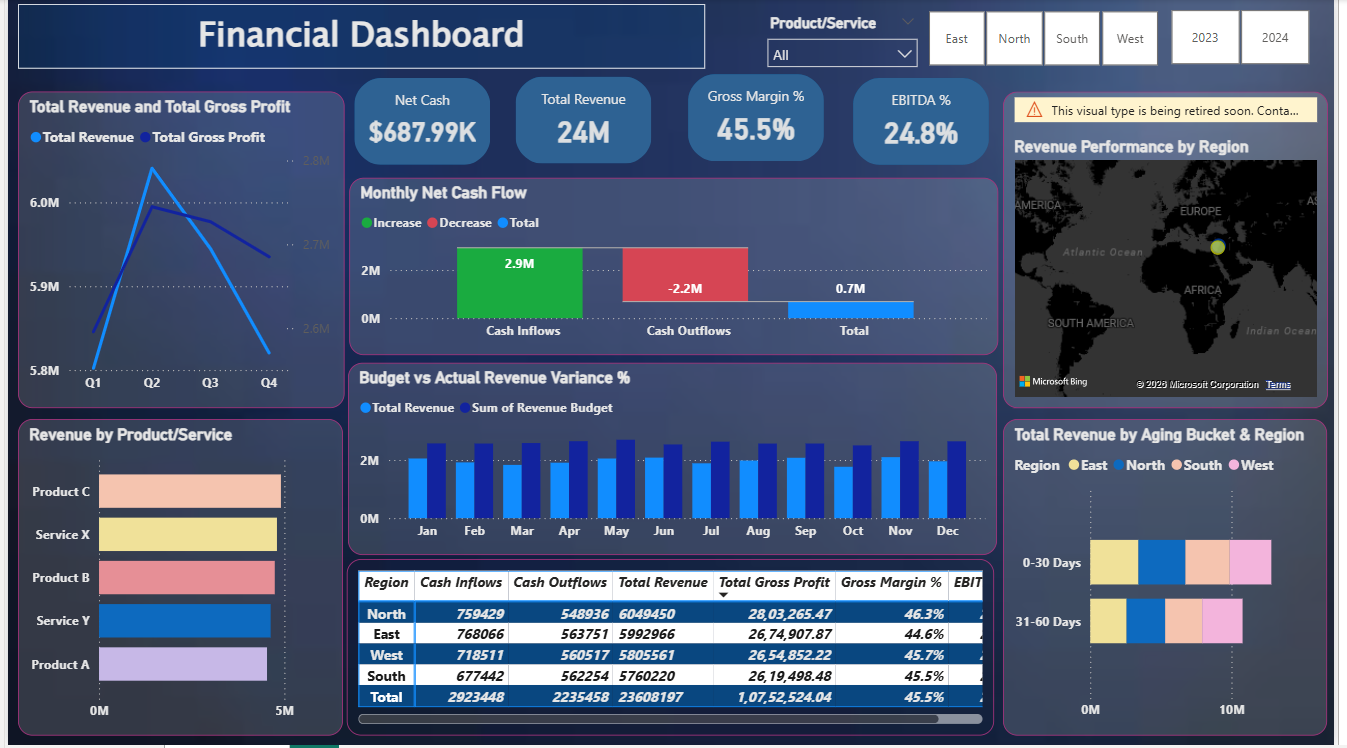

The page's visual inventory and layout, read from the dashboard file:
{"tool":"powerbi","page":{"name":"Dashboard","canvas":[1280,720],"ordinal":0},"visuals":[{"type":"barChart","title":"Total Revenue by Aging Bucket & Region","fields":{"Y":["Data Analyst -Case Study Data xlsx - Data.Total Revenue"],"Series":["Data Analyst -Case Study Data xlsx - Data.Region"],"Category":["Data Analyst -Case Study Data xlsx - Data.Aging Bucket"]},"box":[960.3,444,312.5,266.6],"z":0},{"type":"clusteredBarChart","title":"Revenue by Product/Service","fields":{"Category":["Data Analyst -Case Study Data xlsx - Data.Product/Service"],"Y":["Data Analyst -Case Study Data xlsx - Data.Total Revenue"]},"box":[10.9,442.8,313.7,267.8],"z":1000},{"type":"slicer","fields":{"Values":["Data Analyst -Case Study Data xlsx - Data.Region"]},"box":[687.7,4.8,271.4,66.4],"z":2000},{"type":"textbox","box":[9.7,4.8,663.5,62.7],"z":3000},{"type":"clusteredColumnChart","title":"Budget vs Actual Revenue Variance %","fields":{"Category":["DateTable.Time Hierarchy.Month Name"],"Y":["Data Analyst -Case Study Data xlsx - Data.Total Revenue","Sum(Data Analyst -Case Study Data xlsx - Data.Revenue Budget)"]},"box":[328.2,305.2,626.1,205.1],"z":4000},{"type":"pivotTable","fields":{"Values":["Sum(Data Analyst -Case Study Data xlsx - Data.Cash Inflows)","Sum(Data Analyst -Case Study Data xlsx - Data.Cash Outflows)","Data Analyst -Case Study Data xlsx - Data.Total Revenue","Data Analyst -Case Study Data xlsx - Data.Total Gross Profit","Data Analyst -Case Study Data xlsx - Data.Gross Margin %","Data Analyst -Case Study Data xlsx - Data.EBITDA %"],"Rows":["Data Analyst -Case Study Data xlsx - Data.Region"]},"box":[328.2,524.8,624.9,185.8],"z":5000},{"type":"cardVisual","fields":{"Data":["Data Analyst -Case Study Data xlsx - Data.Net Cash"]},"box":[195.4,77.2,129.1,94.1],"z":6000},{"type":"cardVisual","fields":{"Data":["Data Analyst -Case Study Data xlsx - Data.Gross Margin %"]},"box":[960.3,77.2,129.1,94.1],"z":7000},{"type":"cardVisual","fields":{"Data":["Data Analyst -Case Study Data xlsx - Data.EBITDA %"]},"box":[1116,77.2,129.1,94.1],"z":8000},{"type":"cardVisual","fields":{"Data":["Data Analyst -Case Study Data xlsx - Data.Total Revenue"]},"box":[38.6,77.2,129.1,94.1],"z":9000},{"type":"map","title":"Revenue Performance by Region","fields":{"Category":["Data Analyst -Case Study Data xlsx - Data.Region"],"Size":["Data Analyst -Case Study Data xlsx - Data.Total Revenue"]},"box":[959.1,172.5,313.7,265.4],"z":10000},{"type":"slicer","fields":{"Values":["DateTable.Year"]},"box":[916.9,4.8,183.4,66.4],"z":11000},{"type":"lineChart","title":"Total Revenue and Total Gross Profit","fields":{"Category":["DateTable.Time Hierarchy.Year","DateTable.Time Hierarchy.Quarter","DateTable.Time Hierarchy.Month Name"],"Y":["Data Analyst -Case Study Data xlsx - Data.Total Revenue"],"Y2":["Data Analyst -Case Study Data xlsx - Data.Total Gross Profit"]},"box":[9.7,171.3,314.9,266.6],"z":12000},{"type":"waterfallChart","title":"Monthly Net Cash Flow","fields":{"Category":["DateTable.Time Hierarchy.Month Name"],"Y":["Data Analyst -Case Study Data xlsx - Data.Net Cash"]},"box":[329.4,88.1,626.1,205],"z":13000},{"type":"slicer","fields":{"Values":["Data Analyst -Case Study Data xlsx - Data.Product/Service"]},"box":[1073.7,4.8,199.1,57.9],"z":14000}]}

Visuals, with their boxes in screenshot pixels (x1, y1, x2, y2), scaled from the page's 1280x720 canvas onto the 1347x748 screenshot:
"Total Revenue by Aging Bucket & Region" barChart: l=1011, t=461, r=1339, b=738
"Revenue by Product/Service" clusteredBarChart: l=11, t=460, r=342, b=738
slicer - Data Analyst -Case Study Data xlsx - Data.Region: l=724, t=5, r=1009, b=74
textbox: l=10, t=5, r=708, b=70
"Budget vs Actual Revenue Variance %" clusteredColumnChart: l=345, t=317, r=1004, b=530
pivotTable - Sum(Data Analyst -Case Study Data xlsx - Data.Cash Inflows) x Sum(Data Analyst -Case Study Data xlsx - Data.Cash Outflows): l=345, t=545, r=1003, b=738
cardVisual - Data Analyst -Case Study Data xlsx - Data.Net Cash: l=206, t=80, r=341, b=178
cardVisual - Data Analyst -Case Study Data xlsx - Data.Gross Margin %: l=1011, t=80, r=1146, b=178
cardVisual - Data Analyst -Case Study Data xlsx - Data.EBITDA %: l=1174, t=80, r=1310, b=178
cardVisual - Data Analyst -Case Study Data xlsx - Data.Total Revenue: l=41, t=80, r=176, b=178
"Revenue Performance by Region" map: l=1009, t=179, r=1339, b=455
slicer - DateTable.Year: l=965, t=5, r=1158, b=74
"Total Revenue and Total Gross Profit" lineChart: l=10, t=178, r=342, b=455
"Monthly Net Cash Flow" waterfallChart: l=347, t=92, r=1006, b=304
slicer - Data Analyst -Case Study Data xlsx - Data.Product/Service: l=1130, t=5, r=1339, b=65
